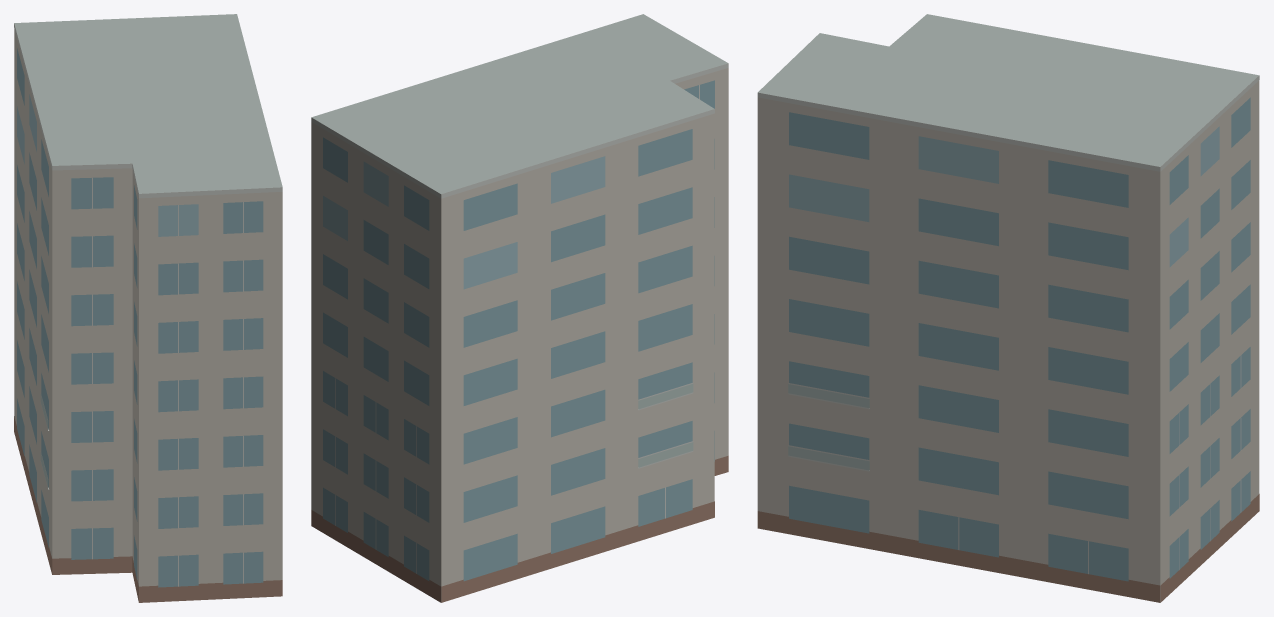
File: survey-upis-32521869.glb
3 renders of one model, left to right at view 1: azimuth 30°, elevation 25°; view 2: azimuth 150°, elevation 25°; view 3: azimuth 270°, elevation 25°, orthographic. The views are drawn at different scales.
Parts seen in each view (by area): view 1: survey-upis-32521869.tmp; view 2: survey-upis-32521869.tmp; view 3: survey-upis-32521869.tmp.
Part boxes in pixels (x1=…): survey-upis-32521869.tmp: x1=14, y1=14, x2=282, y2=602; survey-upis-32521869.tmp: x1=311, y1=14, x2=728, y2=602; survey-upis-32521869.tmp: x1=757, y1=14, x2=1259, y2=602.
Bounding box in the file's own units: 16.8 × 22.3 × 23.28.
